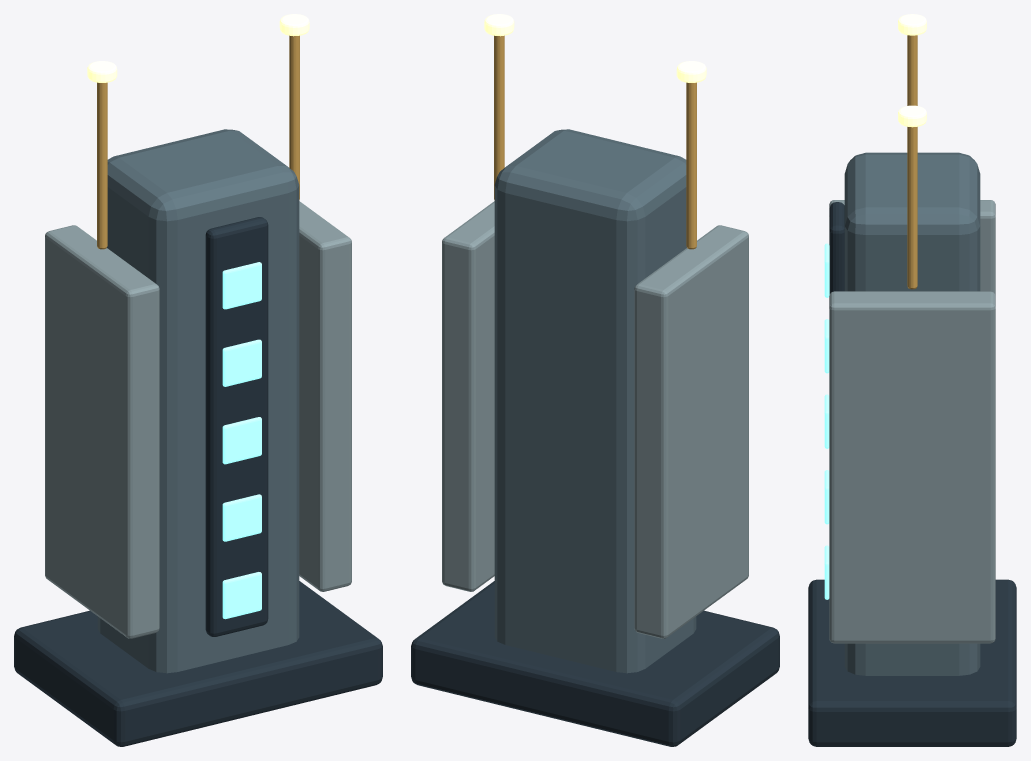
The model's file is SM_Relay.fbx.
3 views of the same model, side by side, from view 1: azimuth 30°, elevation 25°; view 2: azimuth 150°, elevation 25°; view 3: azimuth 270°, elevation 25° (orthographic). The views are drawn at different scales.
Visible parts, largest first — view 1: SM_Relay; view 2: SM_Relay; view 3: SM_Relay.
Boxes of the visible parts, bbox=[...] form: SM_Relay: bbox=[14, 14, 382, 746]; SM_Relay: bbox=[411, 14, 779, 746]; SM_Relay: bbox=[808, 14, 1016, 746].
Bounding box in the file's own units: 145 × 100 × 329.
